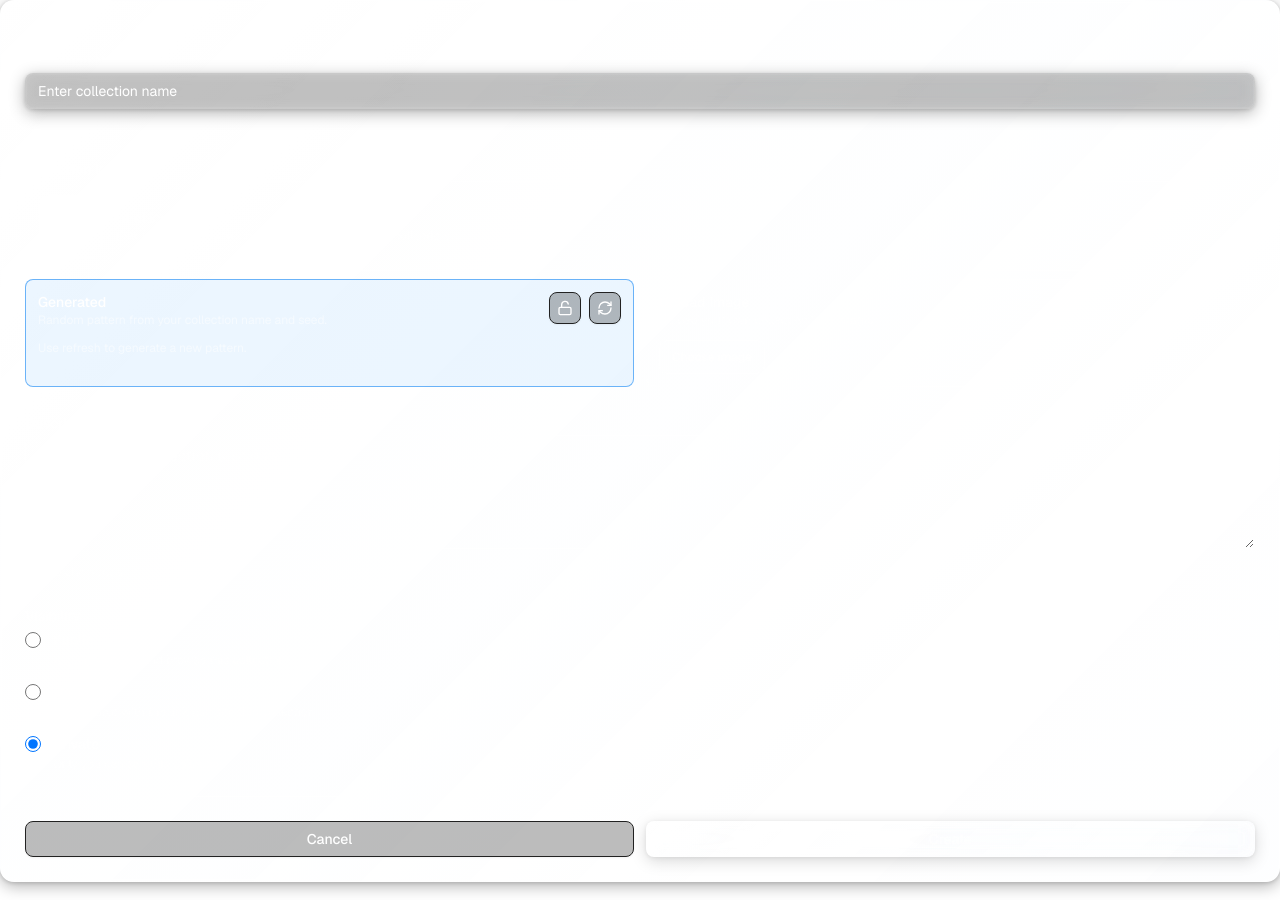
Scenario: CollectionForm › Arrange: seed is locked; Act: inspect refresh control; Assert: new-pattern button is disabled
Type "Alpha" into the field labelled "Collection Name *" at (640, 91), box [25,73,1255,109]
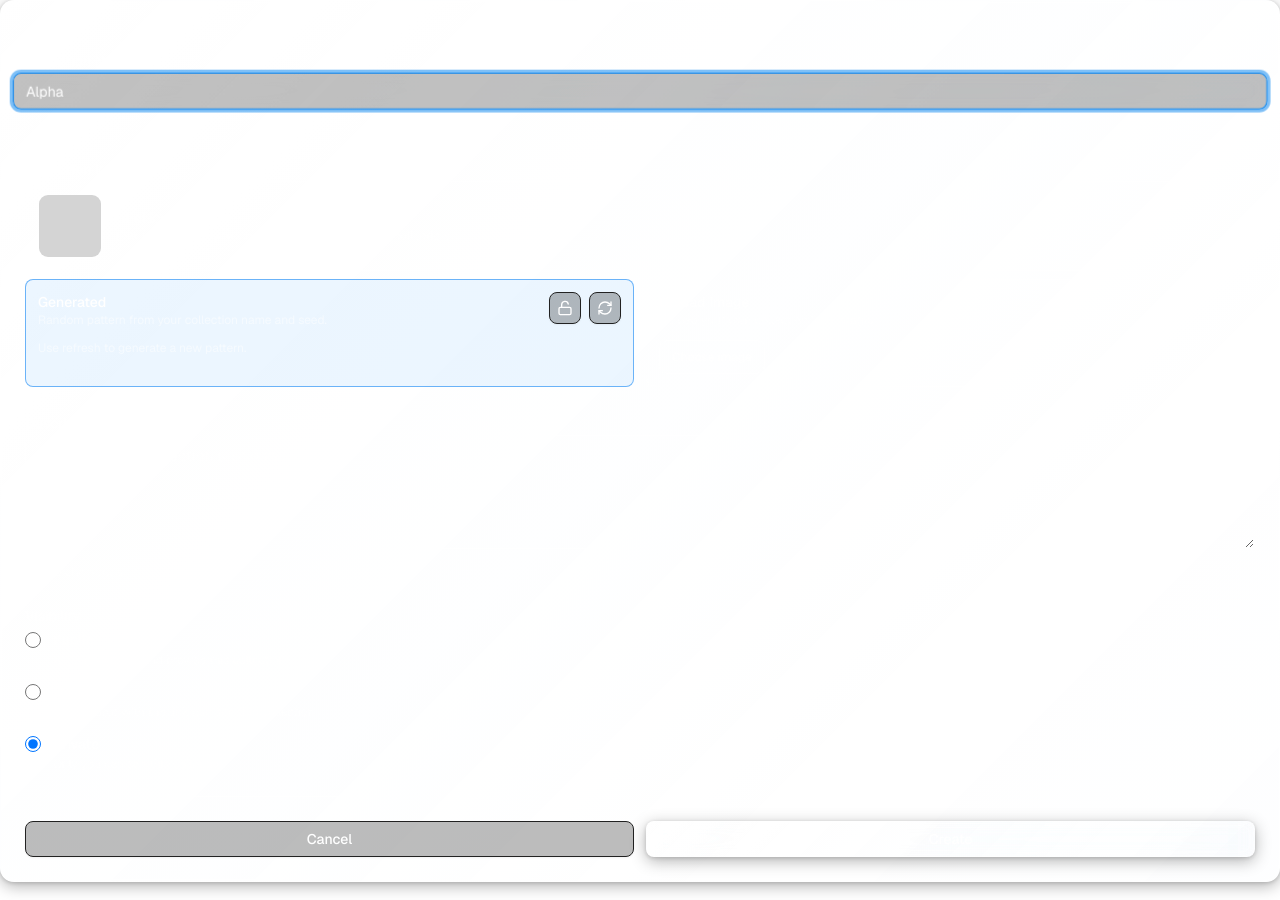
Click the button named "Lock icon seed" at (565, 308), box [549,292,581,324]
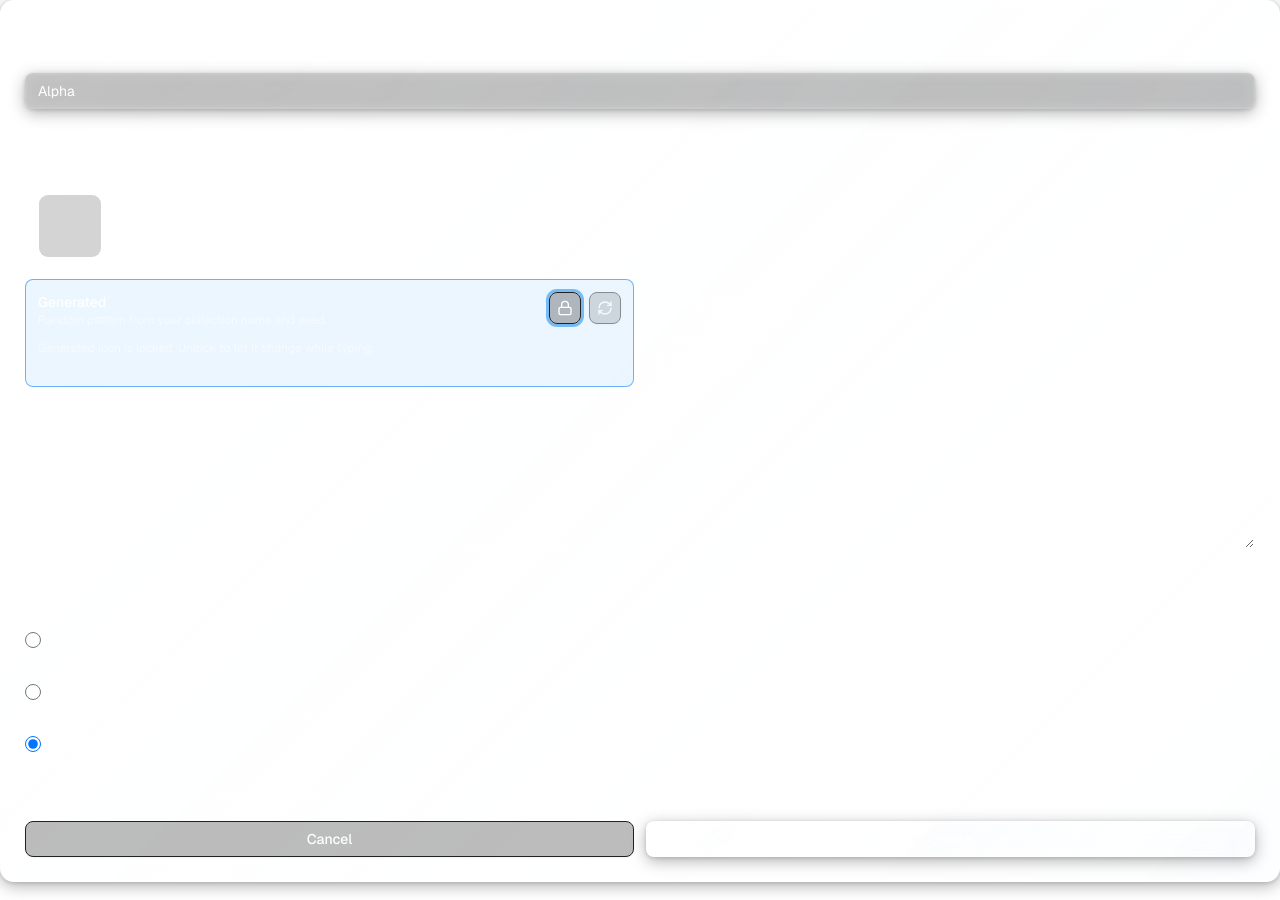
Check: the button named "New pattern" is disabled, box [589,292,621,324]
